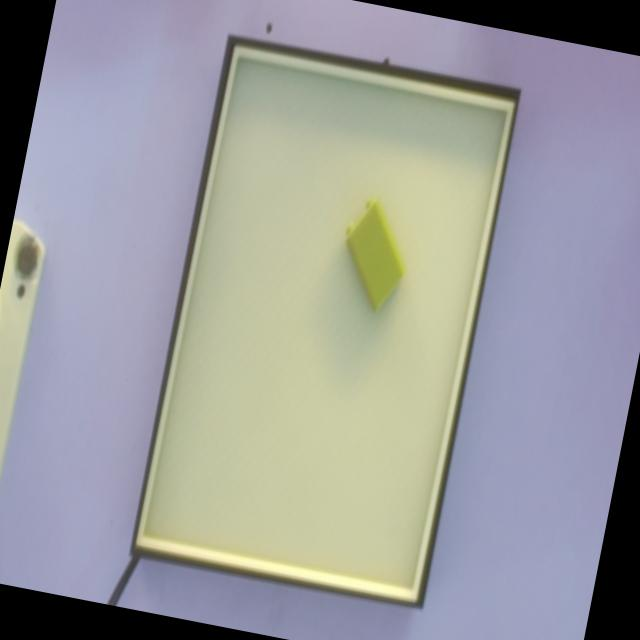bateria: (345, 198, 407, 313)
mesa: (130, 34, 522, 609)
